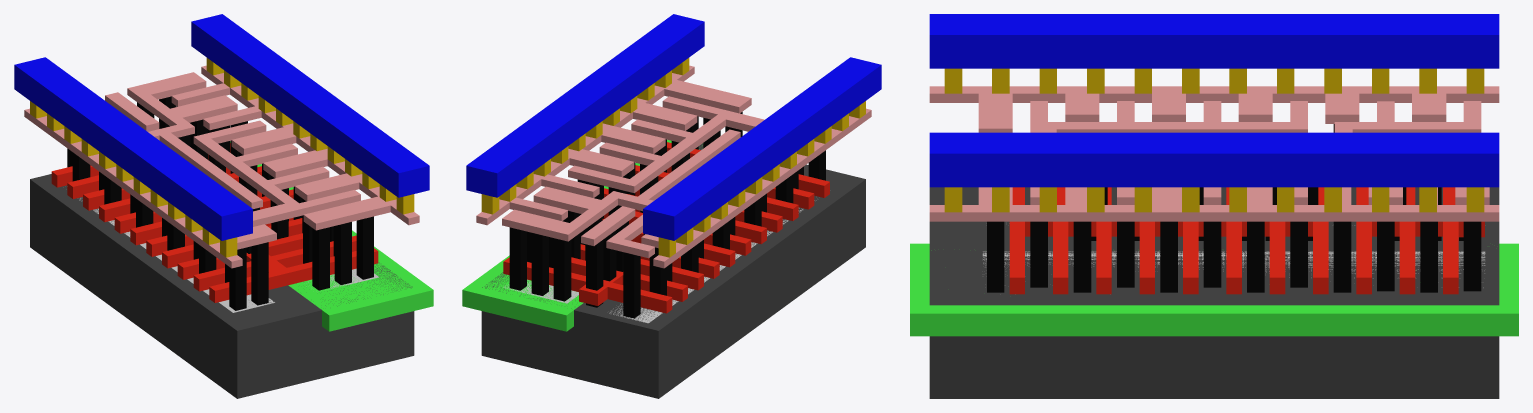
File: sky130_fd_sc_hd__buf_8.obj
3 renders of one model, left to right at view 1: azimuth 30°, elevation 25°; view 2: azimuth 150°, elevation 25°; view 3: azimuth 270°, elevation 25°, orthographic. The views are drawn at different scales.
Parts seen in each view (by area): view 1: subs, metal1, li, licon, poly, nwell, mcon, diff; view 2: subs, metal1, li, licon, poly, mcon, nwell, diff; view 3: metal1, subs, li, nwell, licon, poly, mcon, tap.
Boxes of the visible parts, x1,y1,x2,y2 form: subs: (30,174,414,398); metal1: (14,14,429,240); li: (24,65,419,268); licon: (67,96,373,310); poly: (51,143,378,302); nwell: (230,141,433,331); mcon: (30,58,414,257); diff: (79,198,274,312); subs: (481,143,865,398); metal1: (466,14,881,240); li: (476,65,871,268); licon: (509,112,825,318); poly: (503,142,829,313); mcon: (481,58,865,257); nwell: (462,140,703,331); diff: (609,200,816,323); metal1: (929,14,1499,187); subs: (929,187,1499,398); li: (929,86,1499,221); nwell: (910,243,1518,336); licon: (987,124,1481,292); poly: (1009,187,1484,294); mcon: (944,68,1484,212); tap: (982,251,1485,287).
Size of the model in its own units: 3.2 by 2.74 by 5.9.
